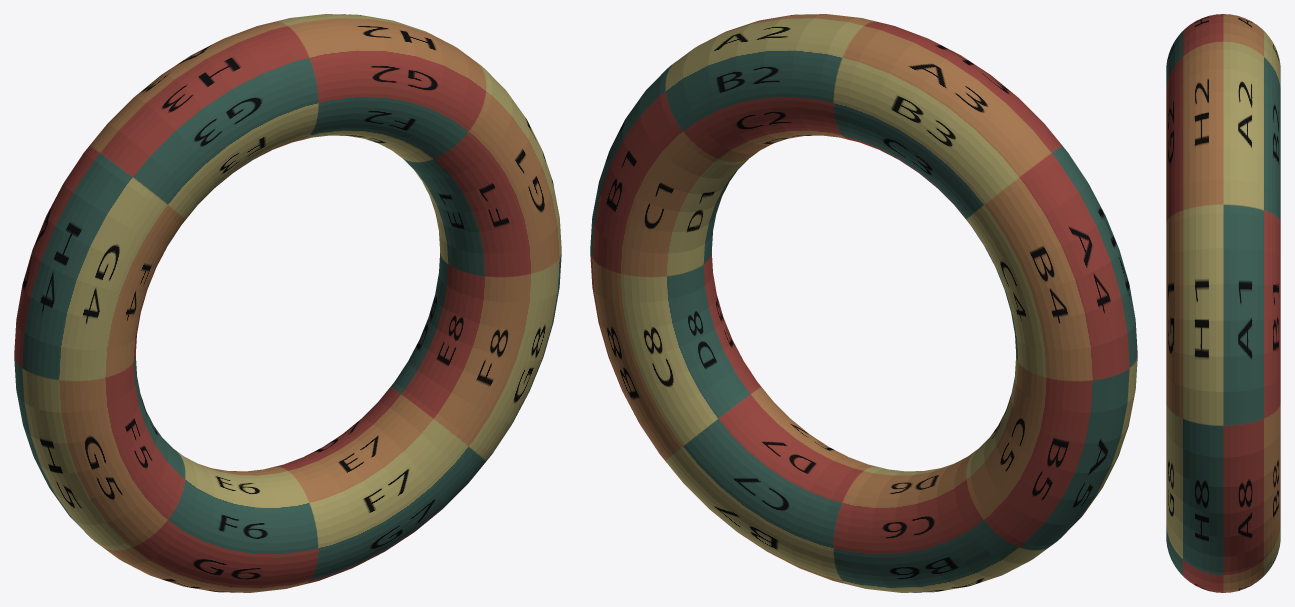
Rendered from texture_torus_R23_r16.glb.
3 views of the same model, side by side, from view 1: azimuth 30°, elevation 25°; view 2: azimuth 150°, elevation 25°; view 3: azimuth 270°, elevation 25° (orthographic). The views are drawn at different scales.
Visible parts, largest first — view 1: world; view 2: world; view 3: world.
Boxes of the visible parts, bbox=[...] form: world: bbox=[14, 14, 561, 592]; world: bbox=[590, 14, 1137, 592]; world: bbox=[1166, 14, 1280, 592].
Bounding box in the file's own units: 31.6 × 31.54 × 6.25.
1 material, 1 textured.
